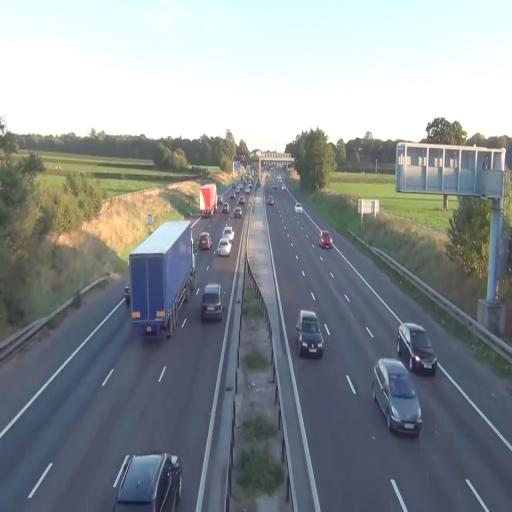vehicle: (129, 218, 194, 339), (112, 452, 182, 512), (372, 354, 422, 436), (397, 322, 437, 376), (296, 310, 324, 358), (200, 284, 224, 323), (199, 182, 217, 216), (216, 228, 234, 256), (198, 231, 211, 252), (320, 232, 332, 250)
